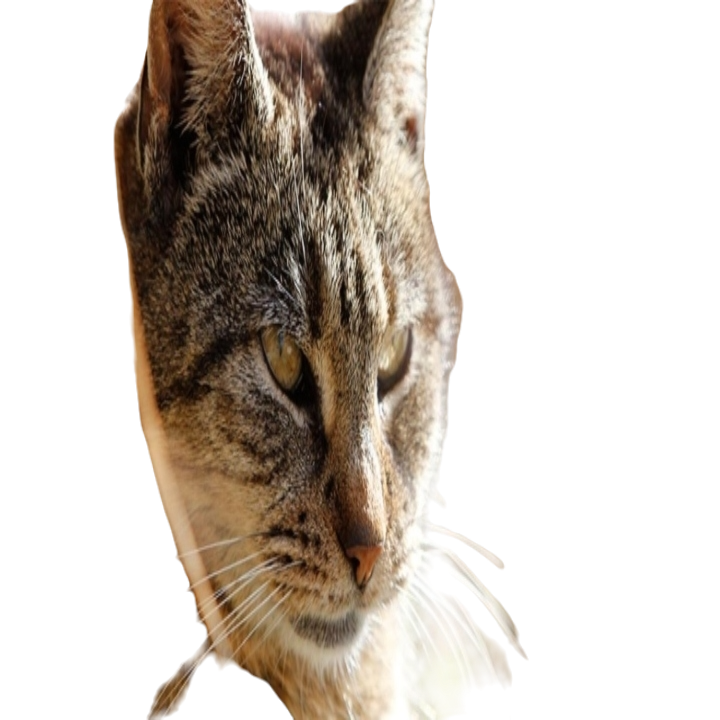Cat: (97, 0, 562, 720)
